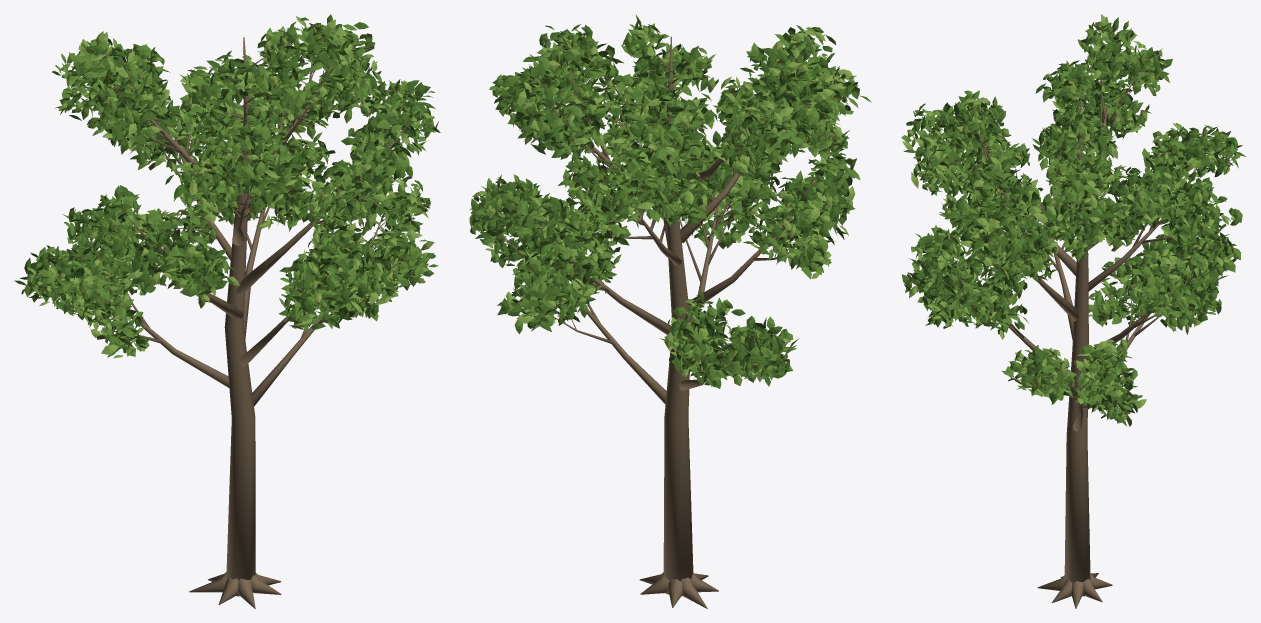
Rendered from SM_Tree_Plane_A.fbx.
The picture shows the model from 3 angles, left to right: view 1: azimuth 30°, elevation 25°; view 2: azimuth 150°, elevation 25°; view 3: azimuth 270°, elevation 25°; orthographic projection. The views are drawn at different scales.
Visible parts, largest first — view 1: SM_Tree_Plane_A; view 2: SM_Tree_Plane_A; view 3: SM_Tree_Plane_A.
Boxes of the visible parts, x1,y1,x2,y2 form: SM_Tree_Plane_A: (14, 14, 440, 608); SM_Tree_Plane_A: (469, 14, 871, 608); SM_Tree_Plane_A: (901, 14, 1246, 608).
Size of the model in its own units: 600 by 546 by 900.
